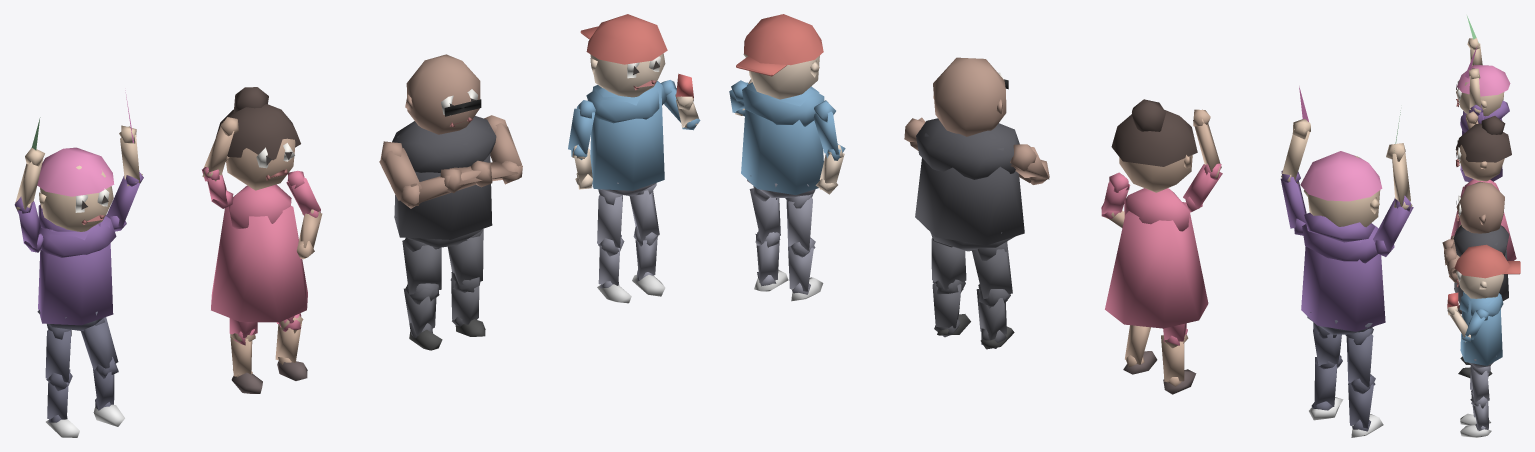
The model's file is crowd.glb.
The picture shows the model from 3 angles, left to right: view 1: azimuth 30°, elevation 25°; view 2: azimuth 150°, elevation 25°; view 3: azimuth 270°, elevation 25°; orthographic projection. The views are drawn at different scales.
Parts seen in each view (by area): view 1: crowd.bouncer, crowd.dancer, crowd.raver, crowd.bro; view 2: crowd.bouncer, crowd.raver, crowd.dancer, crowd.bro; view 3: crowd.bro, crowd.bouncer, crowd.dancer, crowd.raver.
Boxes of the visible parts, x1,y1,x2,y2 form: crowd.bouncer: [379, 54, 522, 350]; crowd.dancer: [202, 87, 322, 393]; crowd.raver: [14, 90, 143, 437]; crowd.bro: [568, 14, 700, 303]; crowd.bouncer: [904, 57, 1049, 349]; crowd.raver: [1280, 86, 1413, 437]; crowd.dancer: [1101, 99, 1222, 394]; crowd.bro: [729, 14, 845, 301]; crowd.bro: [1447, 244, 1520, 437]; crowd.bouncer: [1442, 181, 1509, 377]; crowd.dancer: [1450, 111, 1516, 314]; crowd.raver: [1456, 16, 1510, 181].
Size of the model in its own units: 5.51 by 2.59 by 0.8226.
